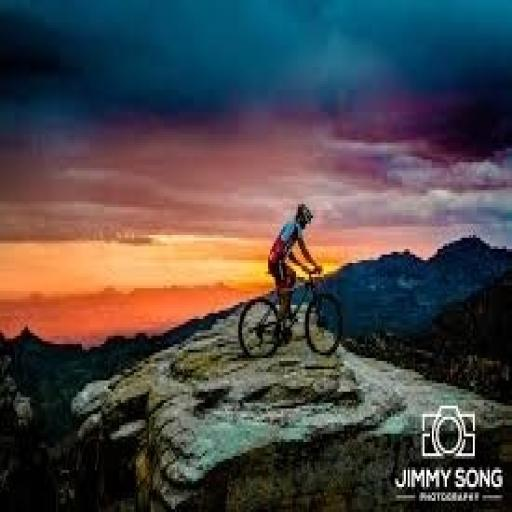cycling: (264, 199, 326, 344)
